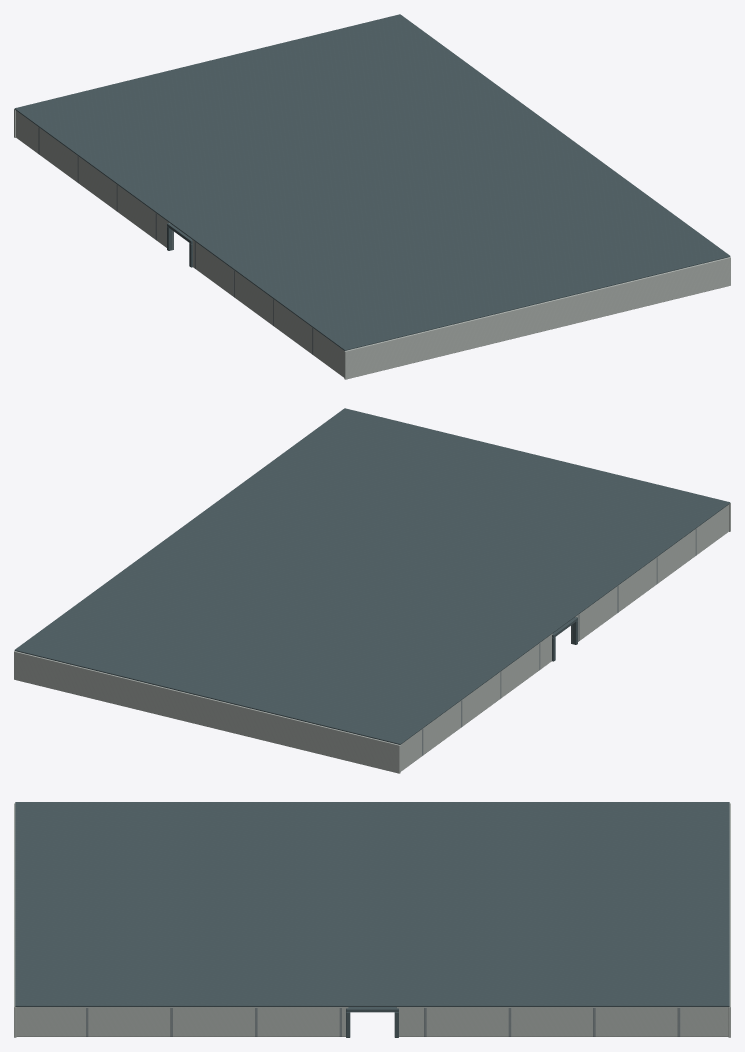
Rendered from D03_directory_08.glb.
3 renders of one model, top to bottom at view 1: azimuth 30°, elevation 25°; view 2: azimuth 150°, elevation 25°; view 3: azimuth 270°, elevation 25°, orthographic. The views are drawn at different scales.
Visible parts, largest first — view 1: E_ceiling, E_outer_north, E_outer_west0, E_outer_west1; view 2: E_ceiling, E_outer_south, E_outer_west1, E_outer_west0; view 3: E_ceiling, E_outer_east0, E_outer_east1, E_outer_south, E_outer_north.
Boxes of the visible parts, x1,y1,x2,y2 form: E_ceiling: [14, 14, 730, 350]; E_outer_north: [344, 257, 730, 379]; E_outer_west0: [16, 110, 169, 247]; E_outer_west1: [192, 239, 344, 377]; E_ceiling: [14, 408, 730, 744]; E_outer_south: [14, 651, 400, 773]; E_outer_west1: [575, 504, 728, 641]; E_outer_west0: [400, 633, 552, 771]; E_ceiling: [15, 802, 729, 1006]; E_outer_east0: [396, 1007, 728, 1036]; E_outer_east1: [16, 1007, 348, 1036]; E_outer_south: [728, 803, 730, 1037]; E_outer_north: [14, 803, 16, 1037].
Size of the model in its own units: 45.75 by 3.34 by 67.84.
Materials: 11 (11 with a texture image).
